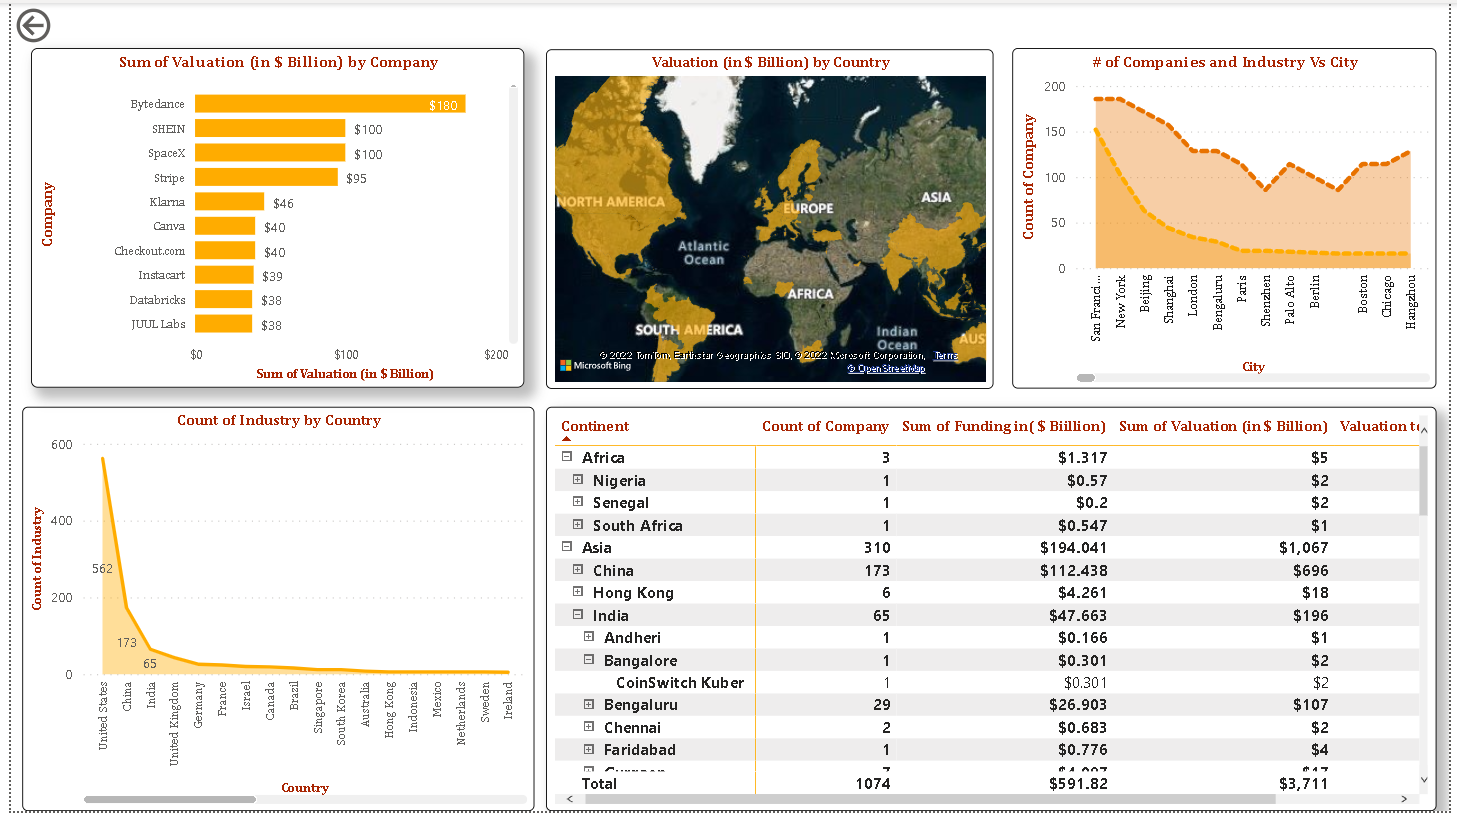

This screenshot's page, from the dashboard's own definition file:
{"tool":"powerbi","page":{"name":"Page 2","canvas":[1280,720],"ordinal":1},"visuals":[{"type":"actionButton","box":[0,0,100,40],"z":0},{"type":"areaChart","title":"# of Companies and Industry  Vs City","fields":{"Category":["Unicorn_Companies.City"],"Y":["CountNonNull(Unicorn_Companies.Company)"],"Y2":["Count(Unicorn_Companies.Industry)"]},"box":[891.3,39.8,377.7,303.5],"z":1000},{"type":"stackedAreaChart","fields":{"Category":["Unicorn_Companies.Country"],"Y":["CountNonNull(Unicorn_Companies.Industry)"]},"box":[9.6,359.8,456,359.8],"z":2000},{"type":"filledMap","title":"Valuation (in $ Billion) by Country","fields":{"Category":["Unicorn_Companies.Country"]},"box":[476.6,41.2,398.3,302.1],"z":3000},{"type":"pivotTable","fields":{"Rows":["Unicorn_Companies.Continent","Unicorn_Companies.Country","Unicorn_Companies.City","Unicorn_Companies.Company"],"Values":["CountNonNull(Unicorn_Companies.Company)","Sum(Unicorn_Companies.Funding in( $ Biillion))","Sum(Unicorn_Companies.Valuation (in $ Billion))","Unicorn_Companies.Valuation to funding ratio"]},"box":[476.6,359.8,792.4,359.8],"z":4000},{"type":"barChart","fields":{"Category":["Unicorn_Companies.Company"],"Y":["Sum(Unicorn_Companies.Valuation (in $ Billion))"]},"box":[17.9,39.8,439.5,302.1],"z":5000}]}

Visuals, with their boxes in screenshot pixels (x1, y1, x2, y2), scaled from the page's 1280x720 canvas onto the 1457x819 screenshot:
actionButton: <bbox>0, 0, 114, 46</bbox>
"# of Companies and Industry  Vs City" areaChart: <bbox>1015, 45, 1444, 391</bbox>
stackedAreaChart - Unicorn_Companies.Country x CountNonNull(Unicorn_Companies.Industry): <bbox>11, 409, 530, 818</bbox>
"Valuation (in $ Billion) by Country" filledMap: <bbox>543, 47, 996, 391</bbox>
pivotTable - Unicorn_Companies.Continent x Unicorn_Companies.Country: <bbox>543, 409, 1444, 818</bbox>
barChart - Unicorn_Companies.Company x Sum(Unicorn_Companies.Valuation (in $ Billion)): <bbox>20, 45, 521, 389</bbox>
